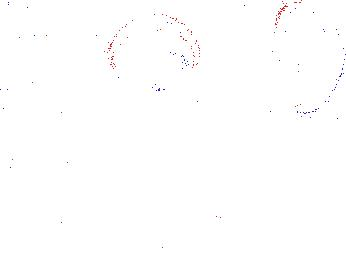moon jellyfish: (272, 2, 345, 115), (107, 12, 201, 81), (15, 1, 134, 43), (1, 4, 39, 97)
